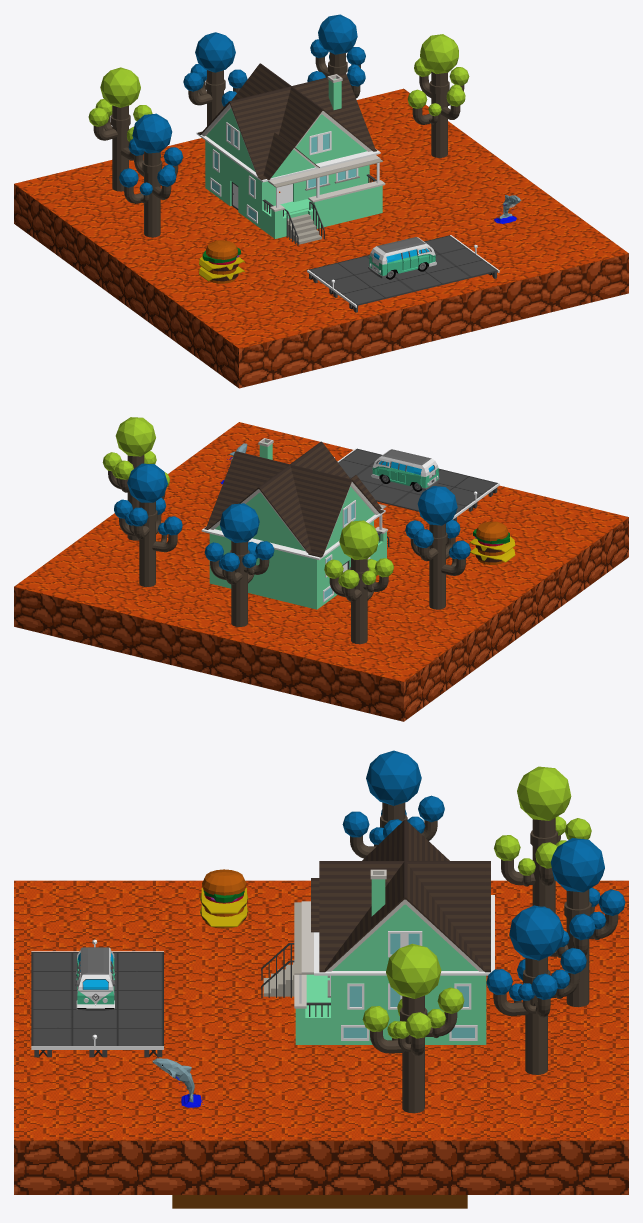
The picture shows the model from 3 angles, top to bottom: view 1: azimuth 30°, elevation 25°; view 2: azimuth 150°, elevation 25°; view 3: azimuth 270°, elevation 25°; orthographic projection. The views are drawn at different scales.
Visible parts, largest first — view 1: Cube.001, Cube.352, VEHICLES_VAN, OBJRANDOM_HAMBURGER; view 2: Cube.001, Cube.352, VEHICLES_VAN, OBJRANDOM_HAMBURGER; view 3: Cube.001, Cube.352, UNDERGROUND_ART_PIECE_VAN_GOGH, OBJRANDOM_HAMBURGER, VEHICLES_VAN, ANIMAL_DELFIN.
Boxes of the visible parts, x1,y1,x2,y2 form: Cube.001: (14, 14, 628, 388); Cube.352: (196, 63, 385, 245); VEHICLES_VAN: (368, 237, 436, 279); OBJRANDOM_HAMBURGER: (199, 240, 244, 283); Cube.001: (14, 417, 628, 721); Cube.352: (201, 438, 389, 609); VEHICLES_VAN: (371, 449, 439, 491); OBJRANDOM_HAMBURGER: (469, 521, 515, 564); Cube.001: (14, 750, 628, 1194); Cube.352: (261, 820, 494, 1044); UNDERGROUND_ART_PIECE_VAN_GOGH: (172, 1195, 467, 1208); OBJRANDOM_HAMBURGER: (200, 869, 248, 928); VEHICLES_VAN: (75, 947, 115, 1010); ANIMAL_DELFIN: (152, 1058, 203, 1108).
Size of the model in its own units: 4000 by 1789 by 4000.
39 materials, 5 textured.
